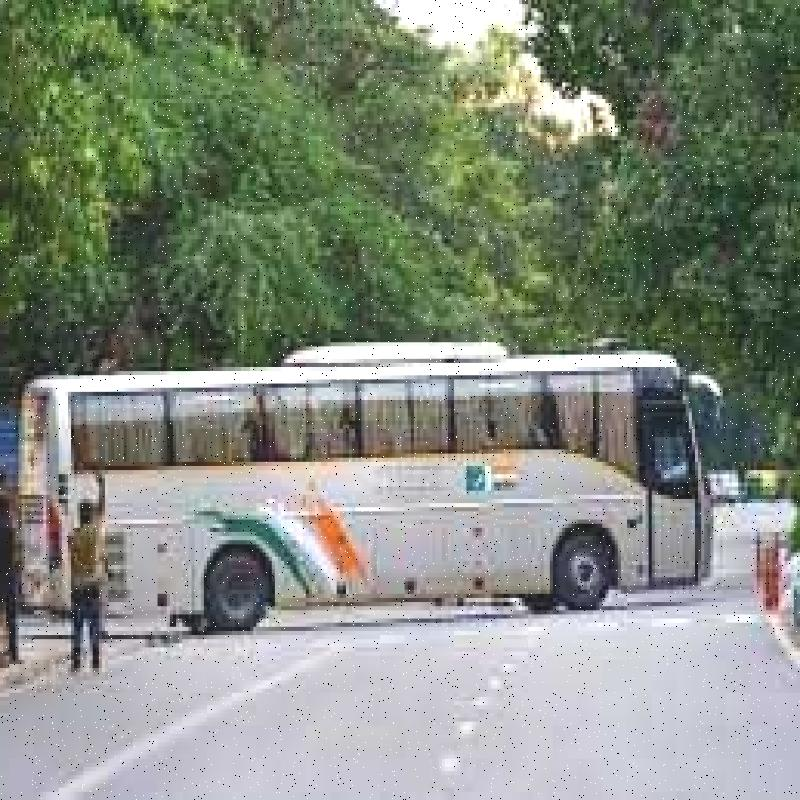bus: (8, 311, 742, 666)
